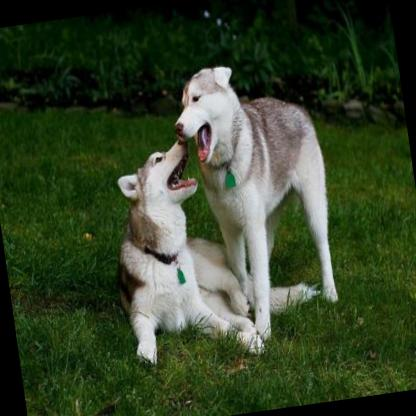Siberian_husky: (100, 122, 320, 368), (166, 49, 345, 348)
